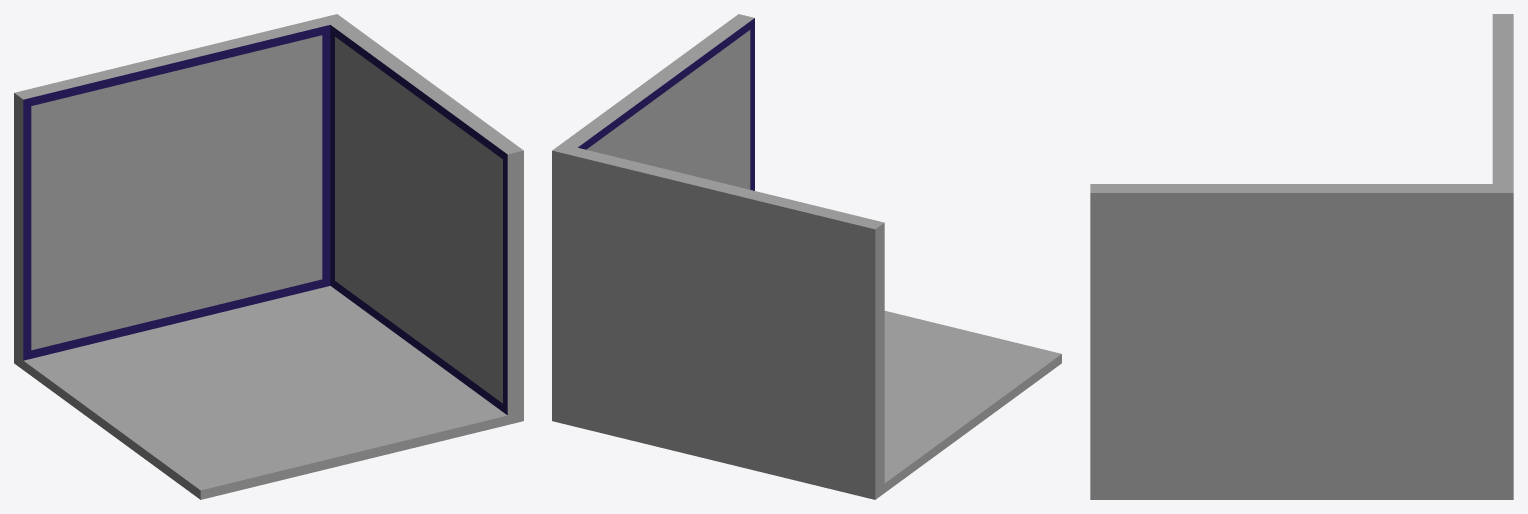
File: Wall_31.fbx
3 views of the same model, side by side, from view 1: azimuth 30°, elevation 25°; view 2: azimuth 150°, elevation 25°; view 3: azimuth 270°, elevation 25° (orthographic). The views are drawn at different scales.
Parts seen in each view (by area): view 1: Wall_31; view 2: Wall_31; view 3: Wall_31.
Part boxes in pixels (x1,y1,x2,y2): Wall_31: (14, 14, 523, 499); Wall_31: (552, 14, 1061, 499); Wall_31: (1090, 14, 1513, 499).
Size of the model in its own units: 3.8 by 3.04 by 3.8.
